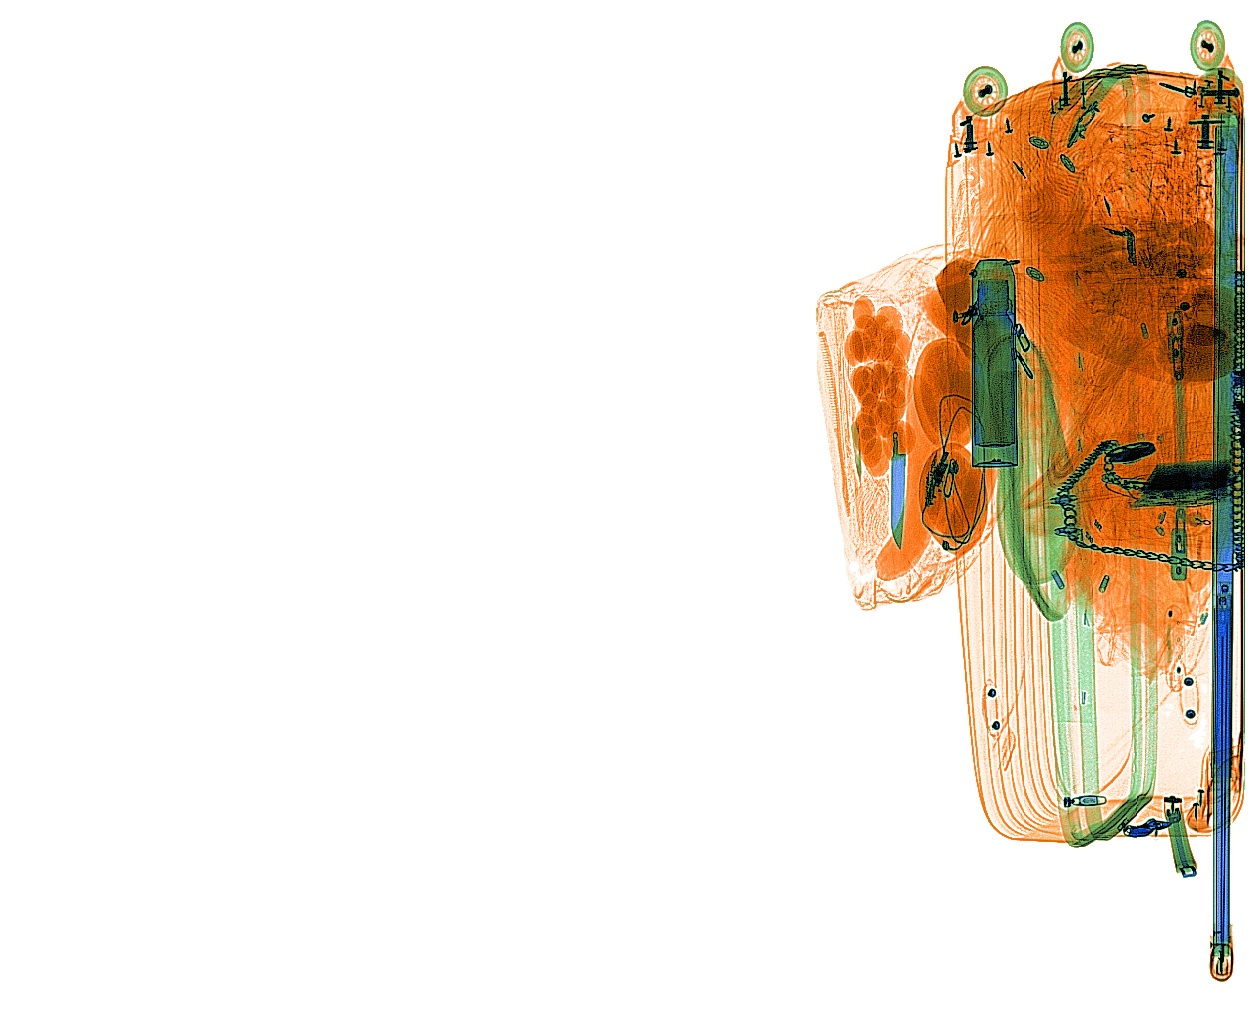metalcup: (968, 255, 1021, 470)
smallelectronicequipment: (1129, 457, 1237, 508)
ysbingdao: (886, 340, 909, 551)
